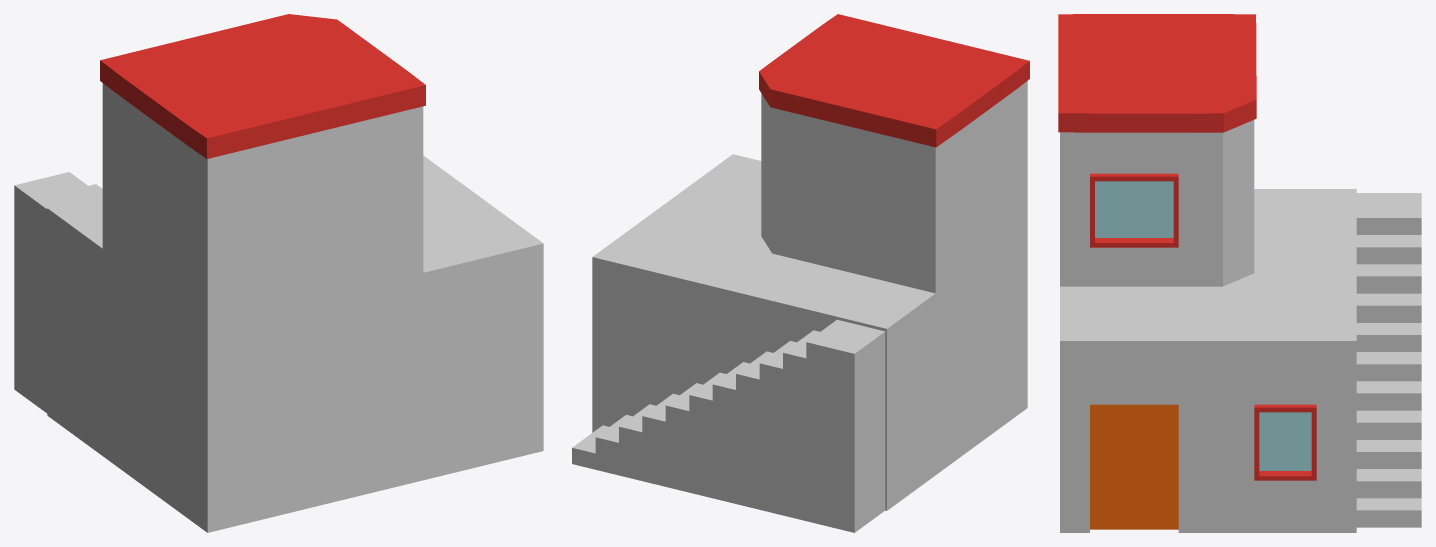
Rendered from Building 10.fbx.
3 renders of one model, left to right at view 1: azimuth 30°, elevation 25°; view 2: azimuth 150°, elevation 25°; view 3: azimuth 270°, elevation 25°, orthographic. The views are drawn at different scales.
Parts seen in each view (by area): view 1: Building 47; view 2: Building 47; view 3: Building 47.
Part boxes in pixels (left/top/right/bottom): Building 47: left=14, top=14, right=543, bottom=532; Building 47: left=572, top=14, right=1029, bottom=532; Building 47: left=1058, top=14, right=1421, bottom=532.
Bounding box in the file's own units: 592 × 648 × 583.
